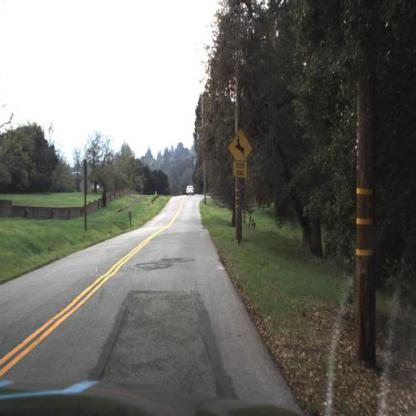car: (180, 185, 194, 203)
